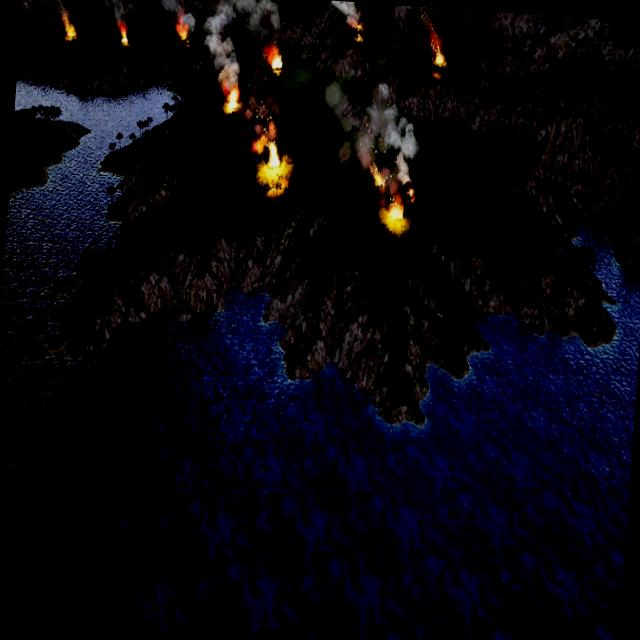fire: (255, 132, 290, 192), (429, 29, 448, 66), (384, 199, 406, 230), (224, 83, 242, 112), (60, 10, 76, 40), (264, 48, 282, 72), (369, 166, 386, 189), (176, 20, 190, 40), (120, 24, 130, 45), (354, 28, 365, 43)
smoke: (317, 78, 422, 188), (158, 0, 284, 87), (243, 97, 280, 153), (322, 0, 362, 25), (108, 0, 128, 30), (153, 0, 181, 12)
